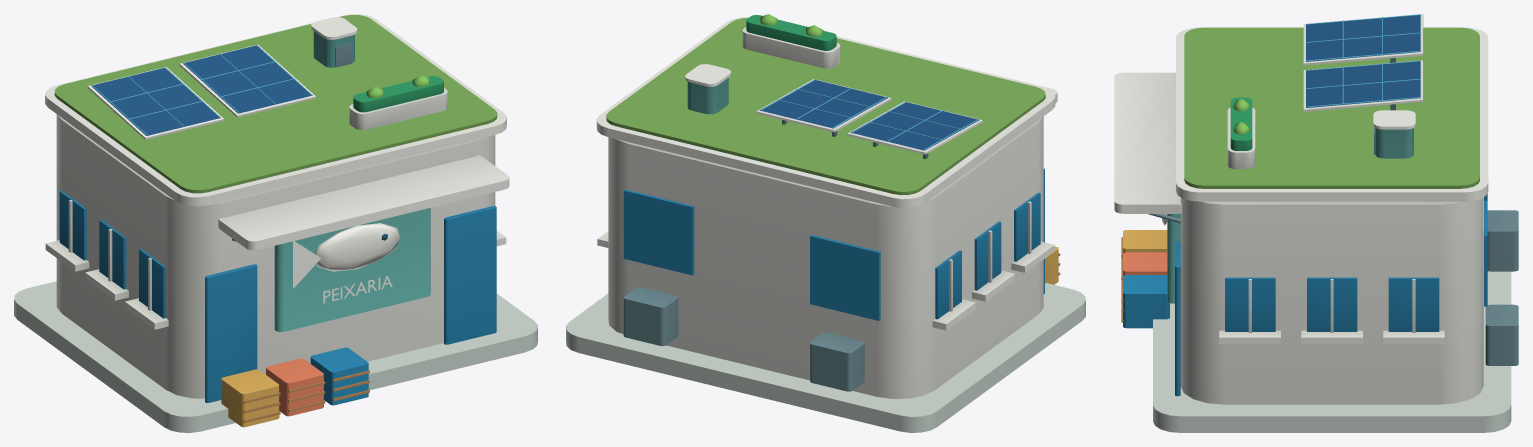
Rendered from fish-market-low.glb.
3 renders of one model, left to right at view 1: azimuth 30°, elevation 25°; view 2: azimuth 150°, elevation 25°; view 3: azimuth 270°, elevation 25°, orthographic. The views are drawn at different scales.
Visible parts, largest first — view 1: fish market rounded shell, green roof, market door, quay warehouse footing, blue fish sign, photovoltaic cells, fish shipping crate, fish shipping crate.001, planter foliage, solar cell division, crate board seam; view 2: fish market rounded shell, green roof, quay warehouse footing, market door, photovoltaic cells, roof access hatch, planter foliage, blue fish sign, solar cell division; view 3: fish market rounded shell, green roof, quay warehouse footing, market door, photovoltaic cells, roof access hatch, blue fish sign, solar cell division, fish shipping crate, fish shipping crate.001, planter foliage.
Boxes of the visible parts, x1,y1,x2,y2 form: fish market rounded shell: [45, 14, 509, 398]; green roof: [54, 15, 497, 193]; market door: [59, 191, 496, 405]; quay warehouse footing: [14, 281, 537, 432]; blue fish sign: [274, 31, 430, 331]; photovoltaic cells: [91, 45, 312, 135]; fish shipping crate: [221, 369, 279, 427]; fish shipping crate.001: [266, 358, 323, 416]; planter foliage: [353, 76, 443, 112]; solar cell division: [91, 45, 311, 135]; crate board seam: [243, 370, 369, 422]; fish market rounded shell: [596, 17, 1057, 398]; green roof: [606, 18, 1045, 195]; quay warehouse footing: [566, 283, 1085, 432]; market door: [623, 168, 1044, 320]; photovoltaic cells: [759, 80, 978, 150]; roof access hatch: [623, 120, 928, 391]; planter foliage: [746, 15, 836, 50]; blue fish sign: [687, 78, 728, 114]; solar cell division: [760, 79, 978, 150]; fish market rounded shell: [1114, 14, 1488, 404]; green roof: [1184, 27, 1479, 188]; quay warehouse footing: [1153, 230, 1511, 432]; market door: [1123, 193, 1487, 396]; photovoltaic cells: [1306, 14, 1420, 107]; roof access hatch: [1148, 58, 1518, 365]; blue fish sign: [1167, 128, 1413, 303]; solar cell division: [1306, 14, 1420, 107]; fish shipping crate: [1123, 230, 1167, 253]; fish shipping crate.001: [1123, 252, 1167, 275]; planter foliage: [1230, 97, 1252, 150].
Bounding box in the file's own units: 4.8 × 3.23 × 4.4.
